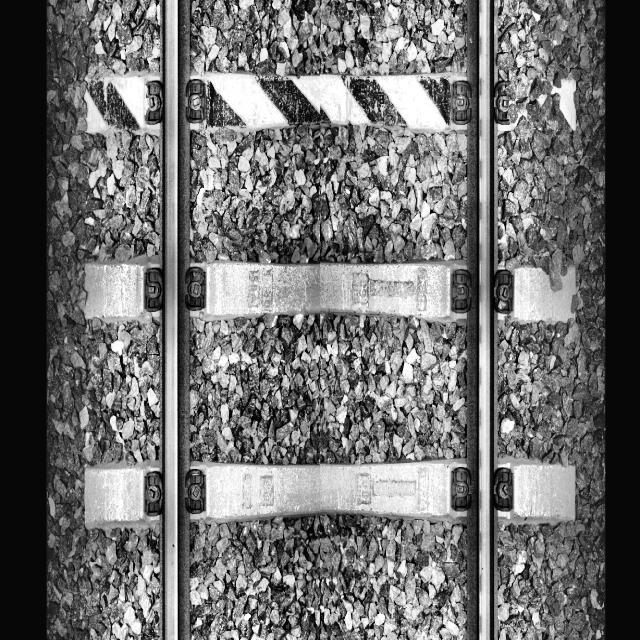Clips: (184, 469, 207, 515), (451, 269, 472, 314), (185, 266, 206, 310), (493, 468, 514, 512), (452, 80, 472, 126), (494, 270, 514, 314), (451, 468, 471, 512), (144, 472, 164, 515), (186, 80, 205, 124), (494, 80, 512, 126), (145, 81, 163, 126), (144, 270, 164, 310)
Sleepers: (84, 261, 576, 325), (82, 73, 576, 136), (84, 466, 575, 522)
